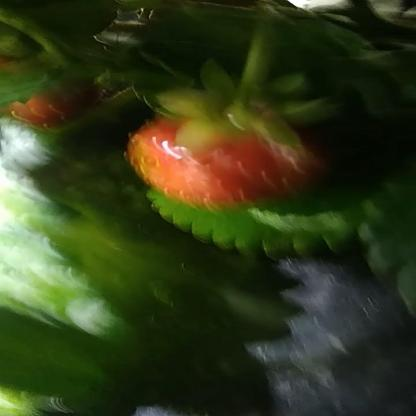ripe: (128, 103, 328, 213), (0, 68, 98, 134)
